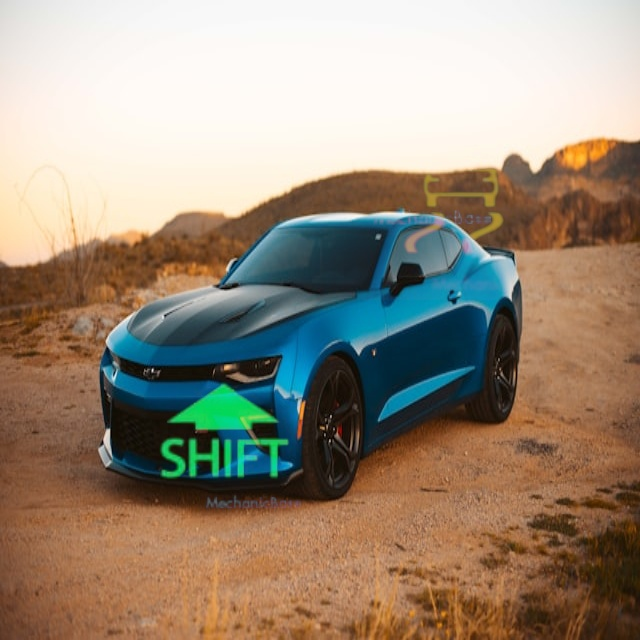symbol: (292, 27, 500, 235), (357, 108, 549, 300), (140, 349, 308, 517)
